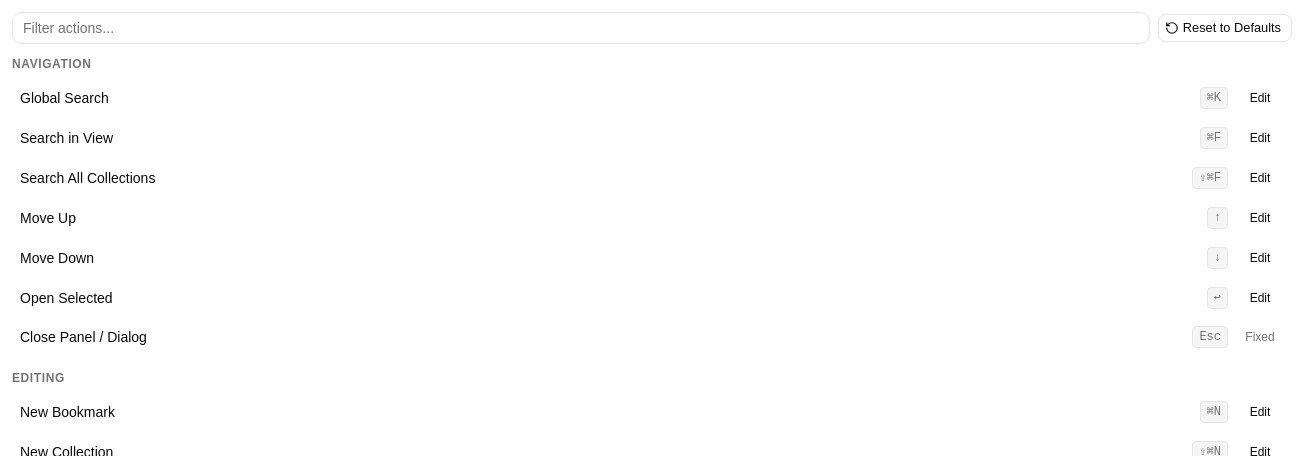
Test: ShortcutEditor › tells the user when no action matches the filter
Type "zzz" into the field labelled "Filter actions". click: (581, 28)
box: x1=12 y1=12 x2=1150 y2=44
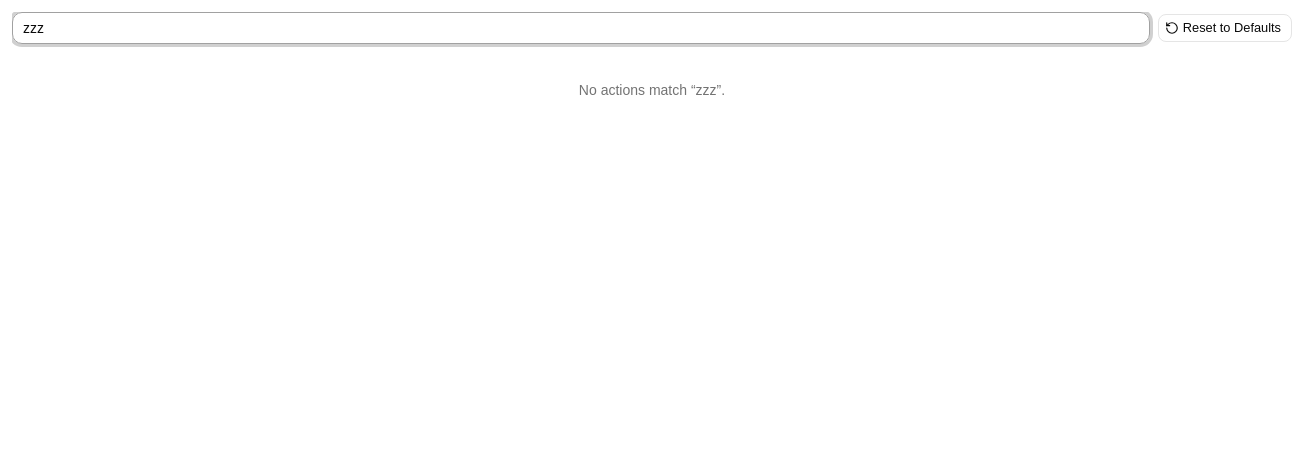
Expected: the text "No actions match “zzz”." is shown, x1=579 y1=82 x2=725 y2=98
